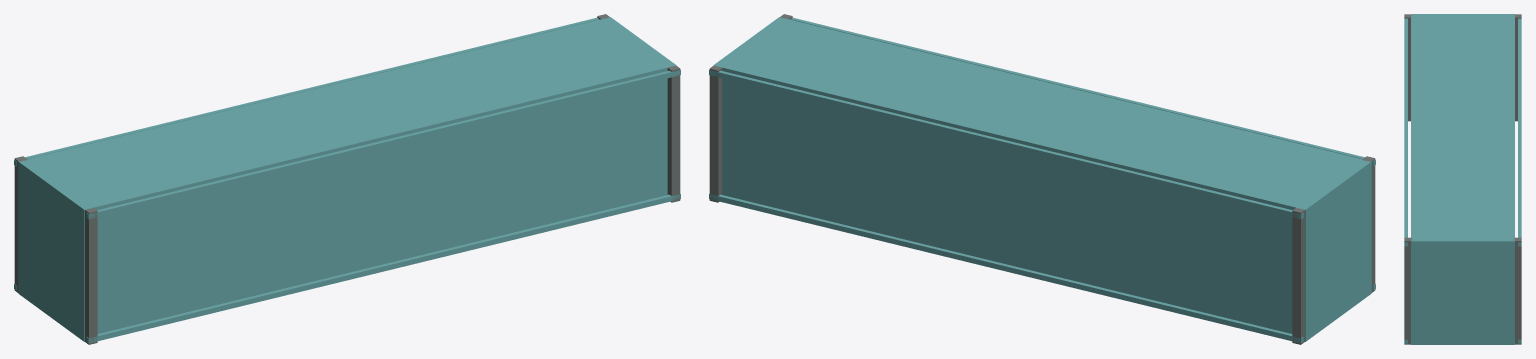
The picture shows the model from 3 angles, left to right: view 1: azimuth 30°, elevation 25°; view 2: azimuth 150°, elevation 25°; view 3: azimuth 270°, elevation 25°; orthographic projection. The views are drawn at different scales.
Size of the model in its own units: 12.2 by 2.6 by 2.66.
